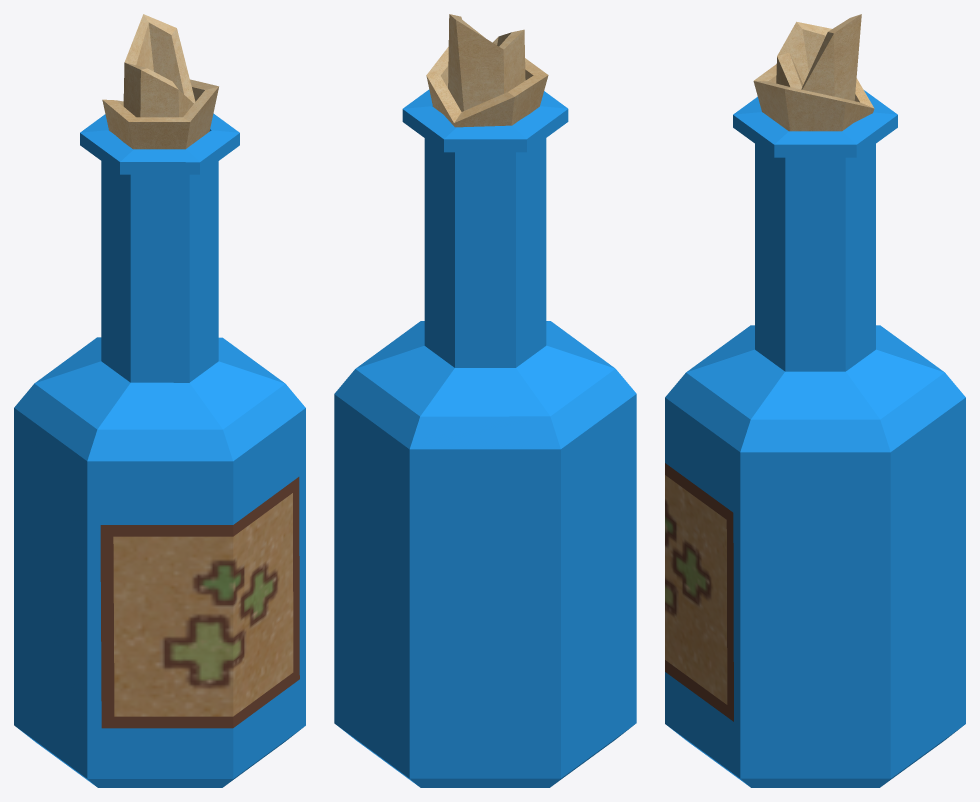
File: Healing potion.fbx
The picture shows the model from 3 angles, left to right: view 1: azimuth 30°, elevation 25°; view 2: azimuth 150°, elevation 25°; view 3: azimuth 270°, elevation 25°; orthographic projection. The views are drawn at different scales.
Visible parts, largest first — view 1: Healing potion; view 2: Healing potion; view 3: Healing potion.
Part boxes in pixels (left/top/right/bottom): Healing potion: left=14, top=14, right=305, bottom=787; Healing potion: left=334, top=14, right=636, bottom=787; Healing potion: left=665, top=14, right=965, bottom=787.
Bounding box in the file's own units: 98 × 304 × 114.
2 materials, 1 textured.
